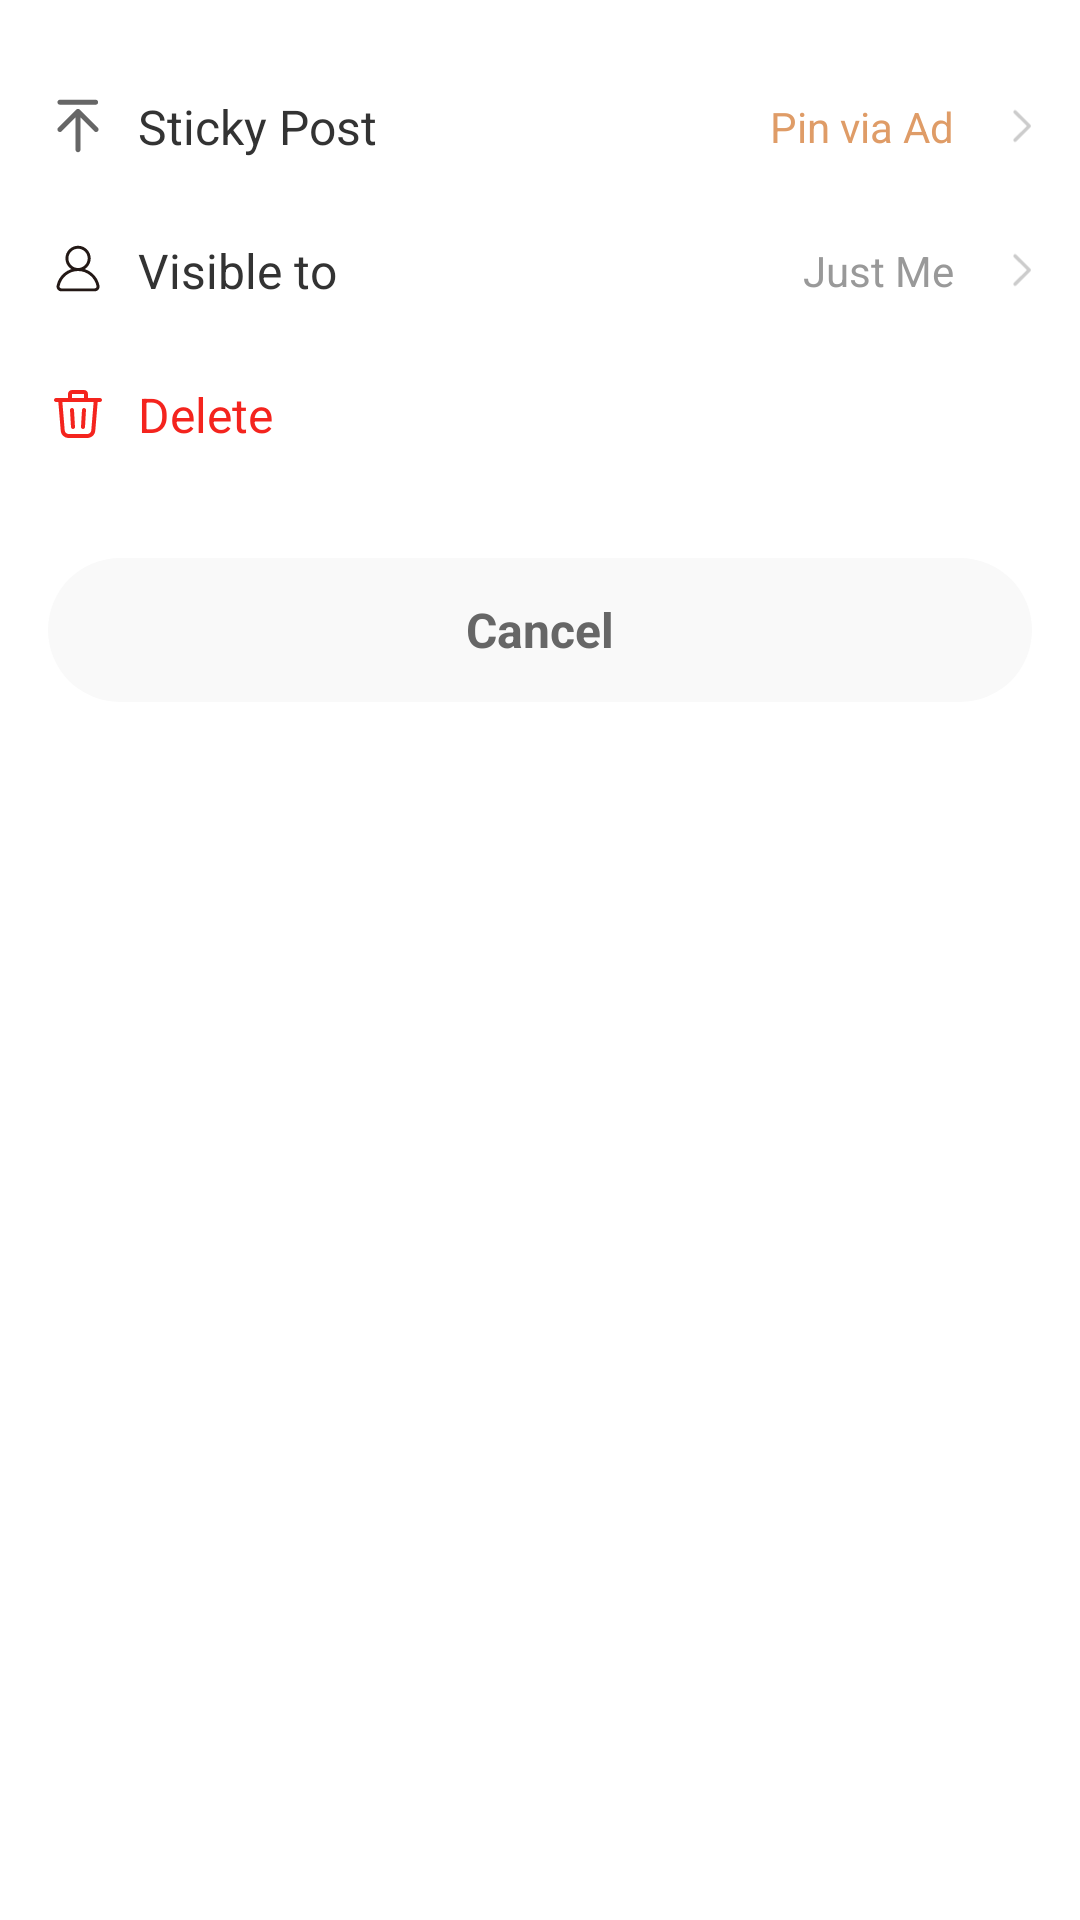

Point at icon controls on the screen. Image size 1080×1920, points as [x,y].
more: [1022,126], [1022,270]
top: [78,125]
